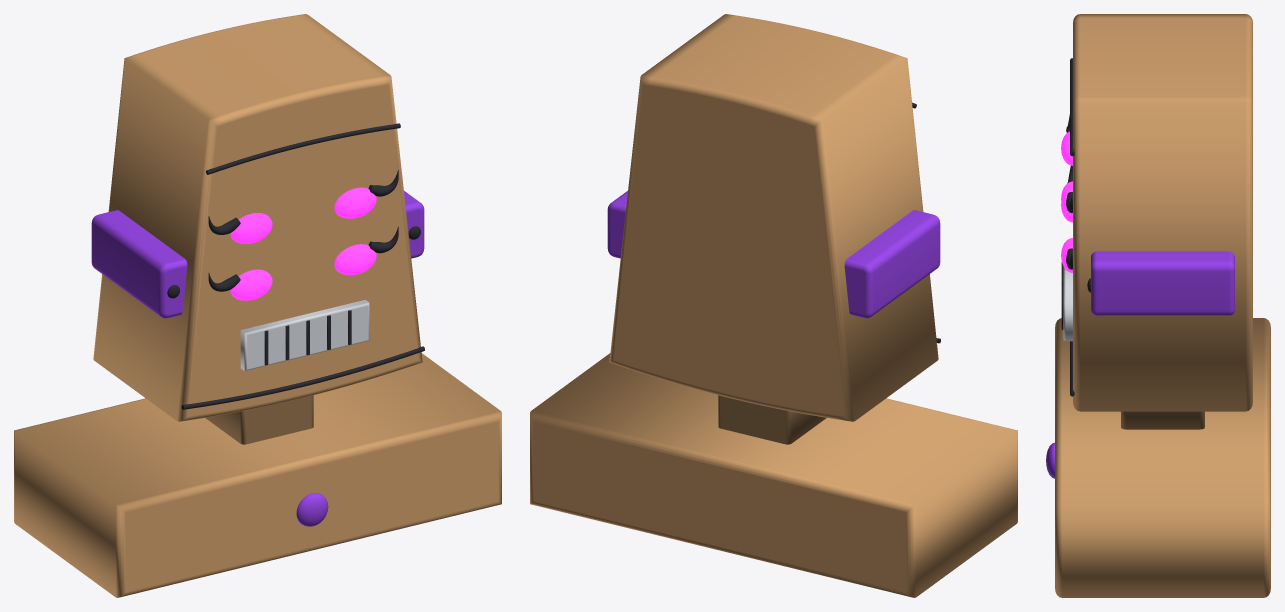
Rendered from model-seed-2.glb.
3 views of the same model, side by side, from view 1: azimuth 30°, elevation 25°; view 2: azimuth 150°, elevation 25°; view 3: azimuth 270°, elevation 25° (orthographic).
Parts seen in each view (by area): view 1: head, shoulders, ear-0, mouth, neck, seam-1, seam-0, eye-1, eye-3, eye-2, eye-0, ear-1 (+1 smaller); view 2: head, shoulders, ear-0, neck, ear-1; view 3: head, shoulders, ear-1, neck, mouth.
Boxes of the visible parts, x1,y1,x2,y2 form: head: [93, 14, 422, 421]; shoulders: [14, 353, 501, 597]; ear-0: [91, 210, 187, 318]; mouth: [240, 299, 369, 370]; neck: [205, 395, 313, 444]; seam-1: [181, 346, 424, 409]; seam-0: [206, 123, 400, 174]; eye-1: [334, 187, 376, 218]; eye-3: [334, 244, 376, 275]; eye-2: [230, 269, 272, 300]; eye-0: [230, 213, 272, 243]; ear-1: [404, 191, 424, 258]; head: [609, 14, 938, 421]; shoulders: [530, 353, 1017, 597]; ear-0: [844, 210, 940, 318]; neck: [718, 395, 826, 444]; ear-1: [607, 191, 627, 258]; head: [1073, 14, 1252, 411]; shoulders: [1055, 318, 1270, 597]; ear-1: [1091, 251, 1234, 315]; neck: [1121, 411, 1204, 429]; mouth: [1063, 243, 1072, 341].
Size of the model in its own units: 0.74 by 0.8288 by 0.375.
